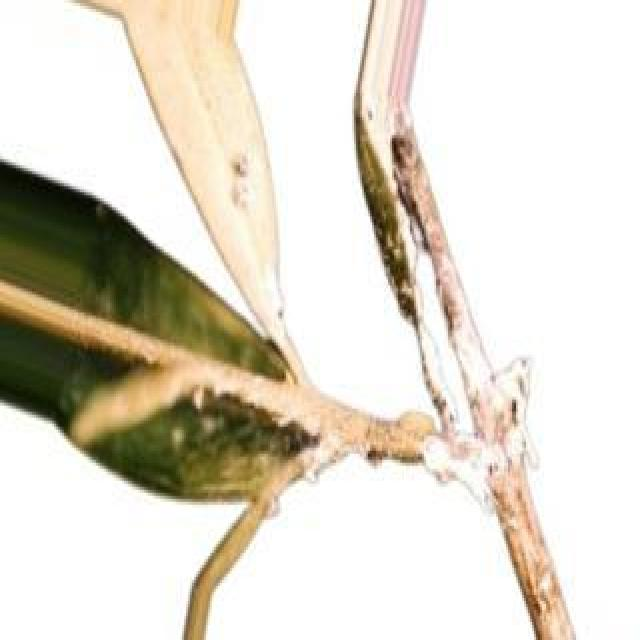Psyllid: (402, 204, 535, 523)
